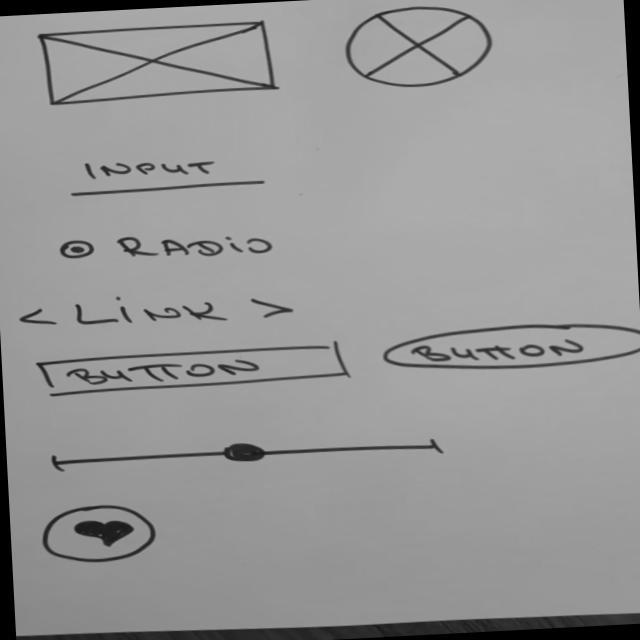button: (35, 340, 355, 401), (376, 317, 640, 379)
icon-button: (37, 500, 163, 569)
image: (35, 18, 282, 108), (340, 3, 499, 95)
input: (62, 148, 273, 201)
link: (16, 282, 297, 338)
radio: (54, 226, 279, 272)
slider: (42, 430, 452, 477)
